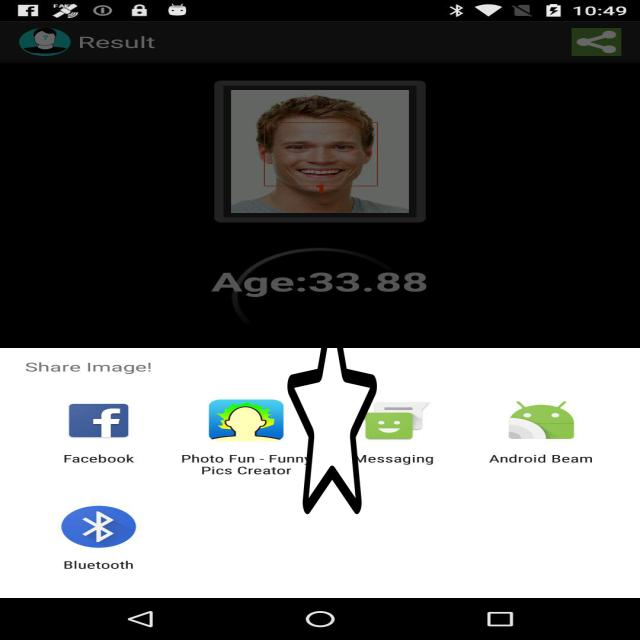forced continuity: (287, 298, 377, 519)
